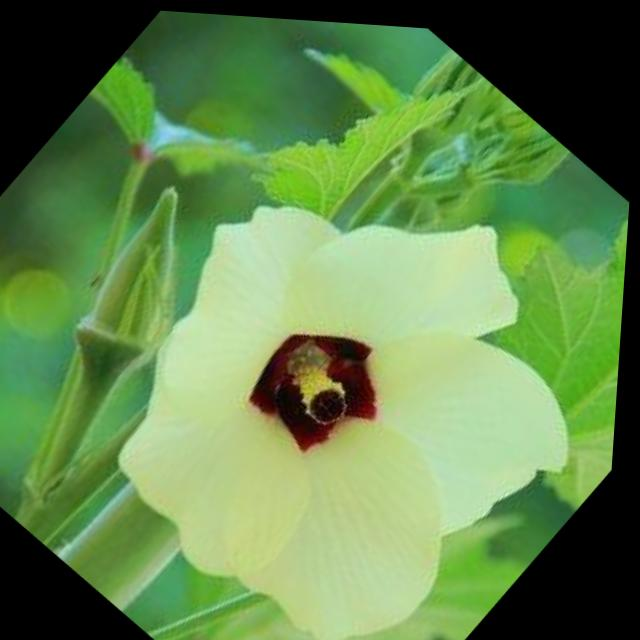Flower: (23, 65, 637, 640)
